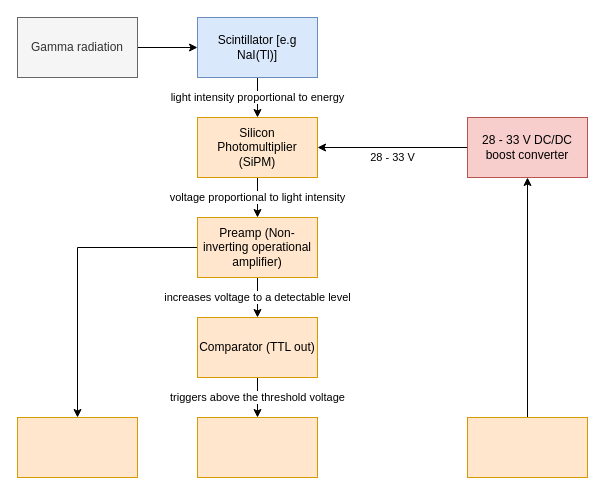
This 605x495 diagram has some shape labels left out. The shapes that lost their labels are listed below. From the top down, each one's centre as x and y in pixels, then its label:
At [77,447]: "AMP output pin Pulse".
At [257,447]: "INT output pin TTL compatible".
At [527,447]: "VCC input pin 3.1 - 5.5 V".
